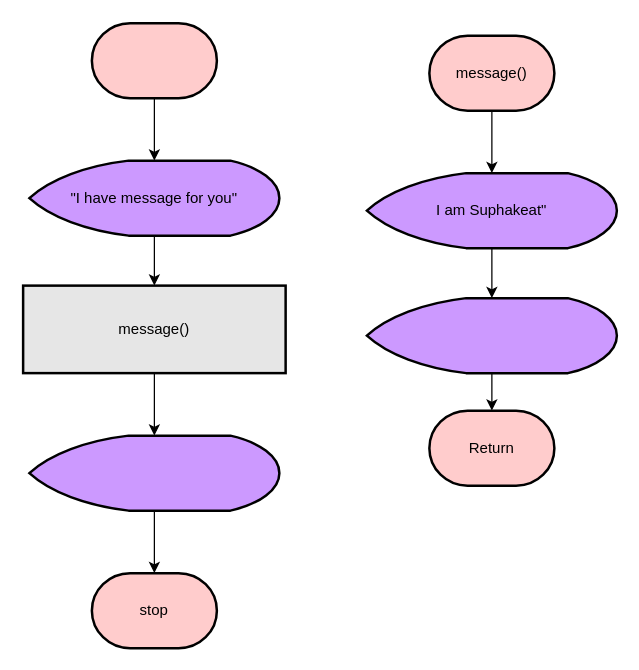
The diagram is 639 pixels wide and 670 high, and some of its shapes have lost their labels. Each missing label, with the centre of its shape:
"Good bye": the point at 154,472
"King of the Britons": the point at 491,335
start: the point at 154,60
